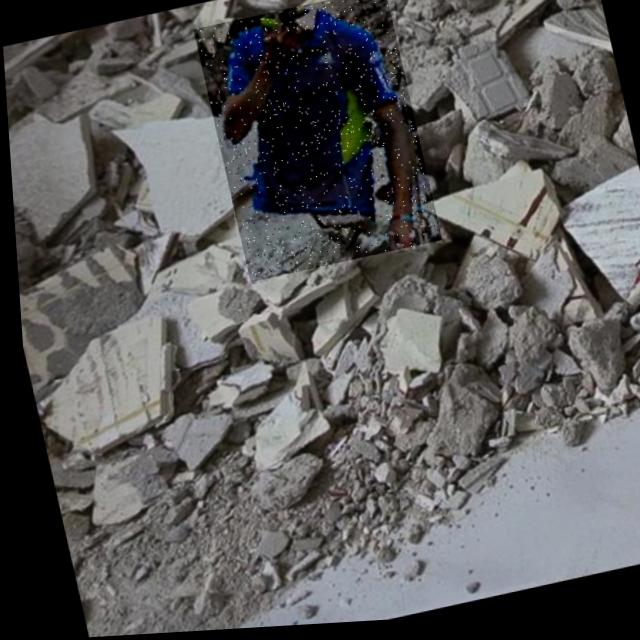Person in Rubble: (191, 0, 440, 287)
